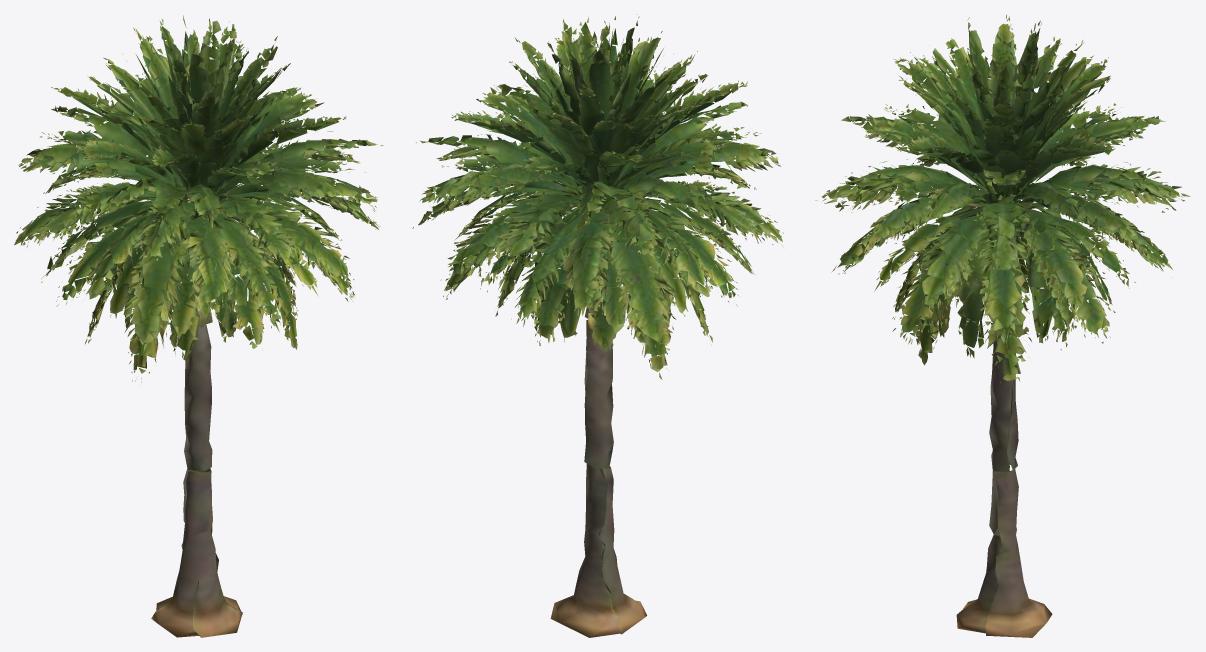
The model's file is palm_a_p.glb.
3 renders of one model, left to right at view 1: azimuth 30°, elevation 25°; view 2: azimuth 150°, elevation 25°; view 3: azimuth 270°, elevation 25°, orthographic.
Parts seen in each view (by area): view 1: Mesh_0; view 2: Mesh_0; view 3: Mesh_0.
Part boxes in pixels (x1,y1,x2,y2): Mesh_0: (14,15,383,637); Mesh_0: (412,16,783,637); Mesh_0: (815,15,1190,637).
Size of the model in its own units: 1.07 by 1.89 by 1.09.
1 material, 1 textured.
